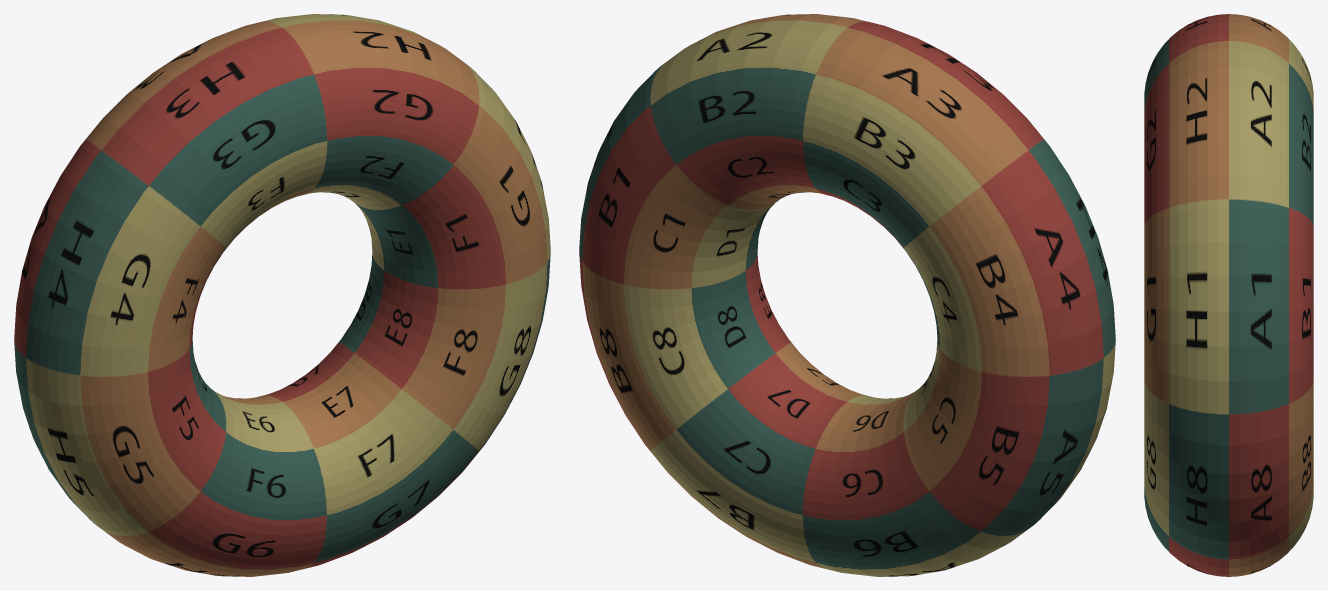
File: texture_torus_R4_r13.glb
3 views of the same model, side by side, from view 1: azimuth 30°, elevation 25°; view 2: azimuth 150°, elevation 25°; view 3: azimuth 270°, elevation 25° (orthographic). The views are drawn at different scales.
Visible parts, largest first — view 1: world; view 2: world; view 3: world.
Boxes of the visible parts, <box> form: world: <box>14,14,550,576</box>; world: <box>579,14,1115,576</box>; world: <box>1144,14,1313,576</box>.
Size of the model in its own units: 18.13 by 18.1 by 5.46.
Materials: 1 (1 with a texture image).
